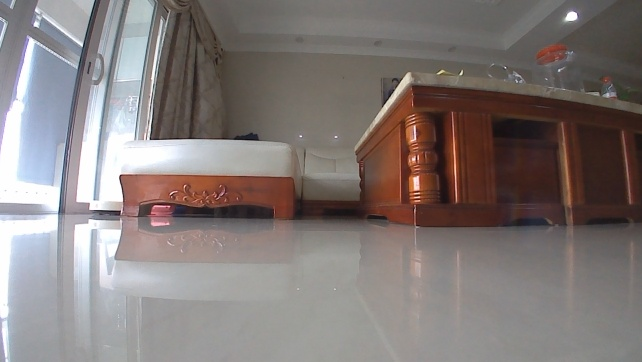sofa1: (117, 135, 360, 222)
tea_table: (350, 72, 641, 230)
